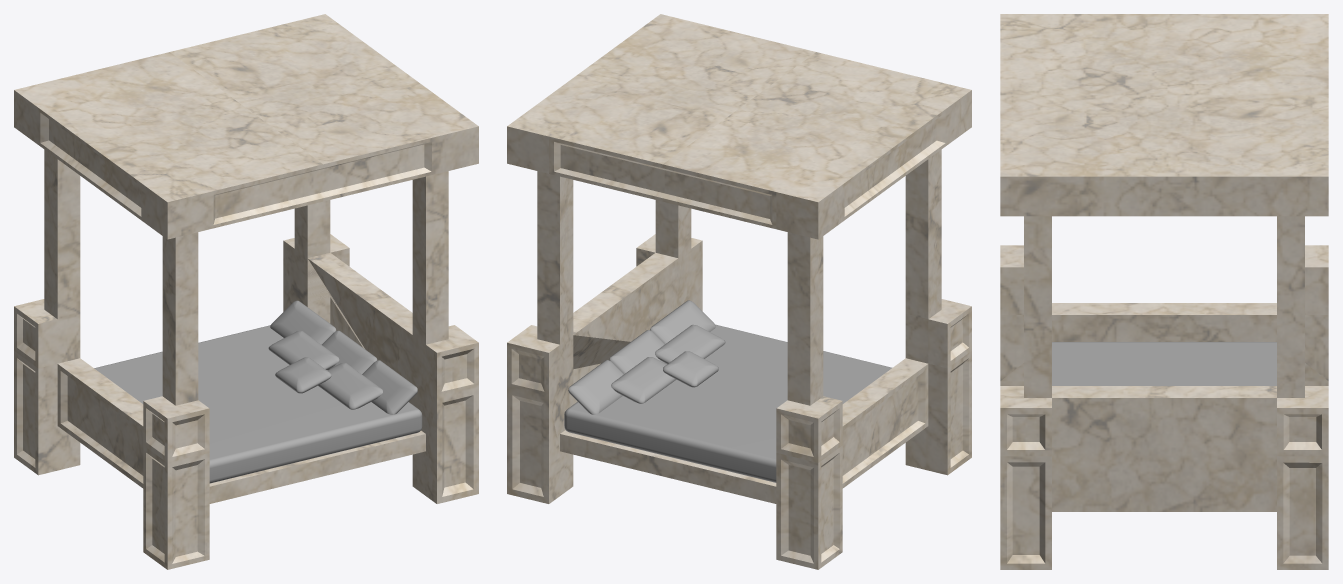
File: KingBed.fbx
3 renders of one model, left to right at view 1: azimuth 30°, elevation 25°; view 2: azimuth 150°, elevation 25°; view 3: azimuth 270°, elevation 25°, orthographic. The views are drawn at different scales.
Parts seen in each view (by area): view 1: KingFrame, Mattress, PillowSet; view 2: KingFrame, Mattress, PillowSet; view 3: KingFrame, Mattress.
Part boxes in pixels (x1,y1,x2,y2): KingFrame: [14, 14, 478, 569]; Mattress: [94, 325, 422, 483]; PillowSet: [268, 300, 417, 414]; KingFrame: [507, 14, 971, 569]; Mattress: [564, 324, 892, 482]; PillowSet: [568, 300, 725, 414]; KingFrame: [1000, 14, 1328, 569]; Mattress: [1052, 342, 1276, 385].
Size of the model in its own units: 6.85 by 7.72 by 5.85.
